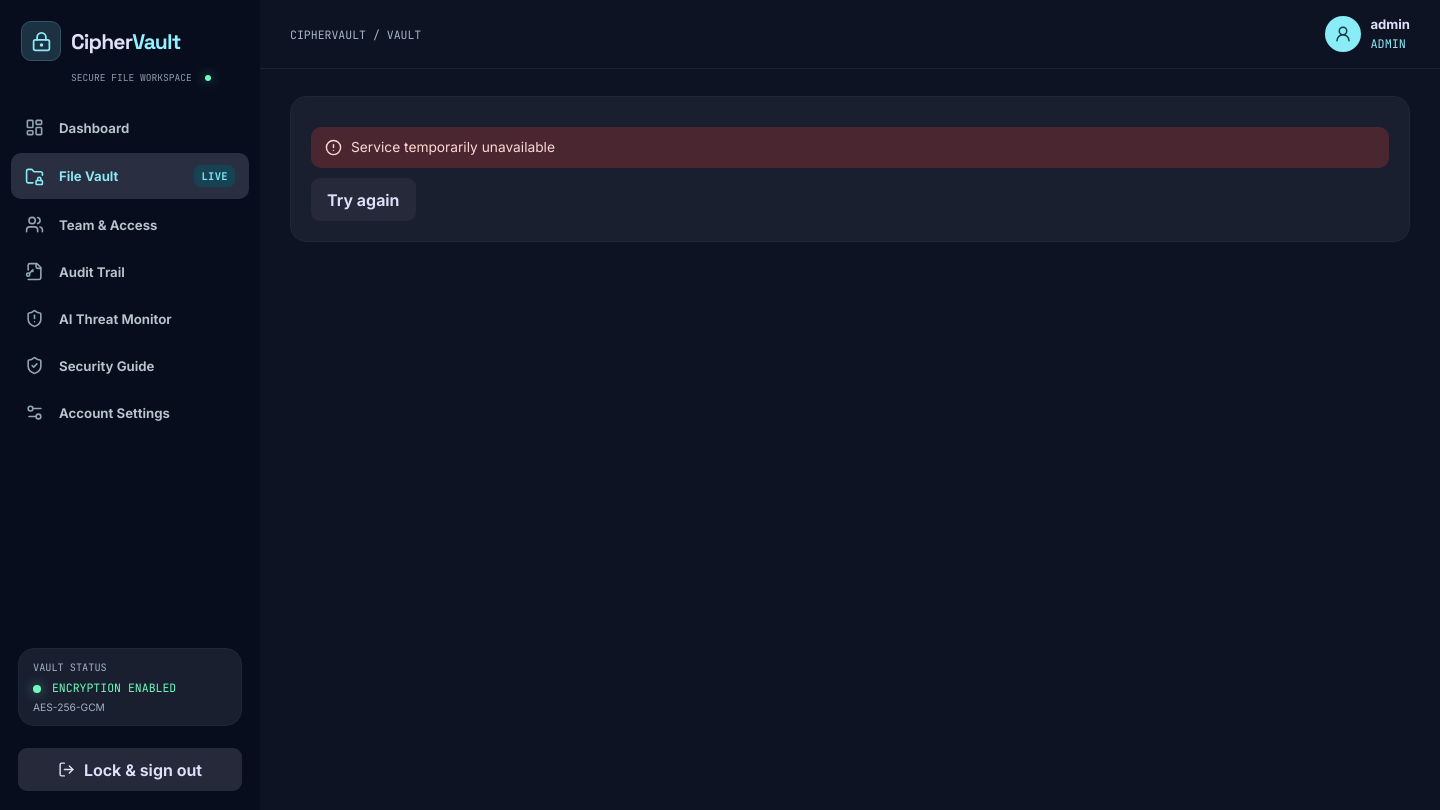
Scenario: failed requests remain recoverable › a successful retry clears the old error and displays the files
Expected: the text "Service temporarily unavailable" is shown, [311,127,1389,168]
Click the button "Try again".
click(363, 200)  # box [311,178,416,221]
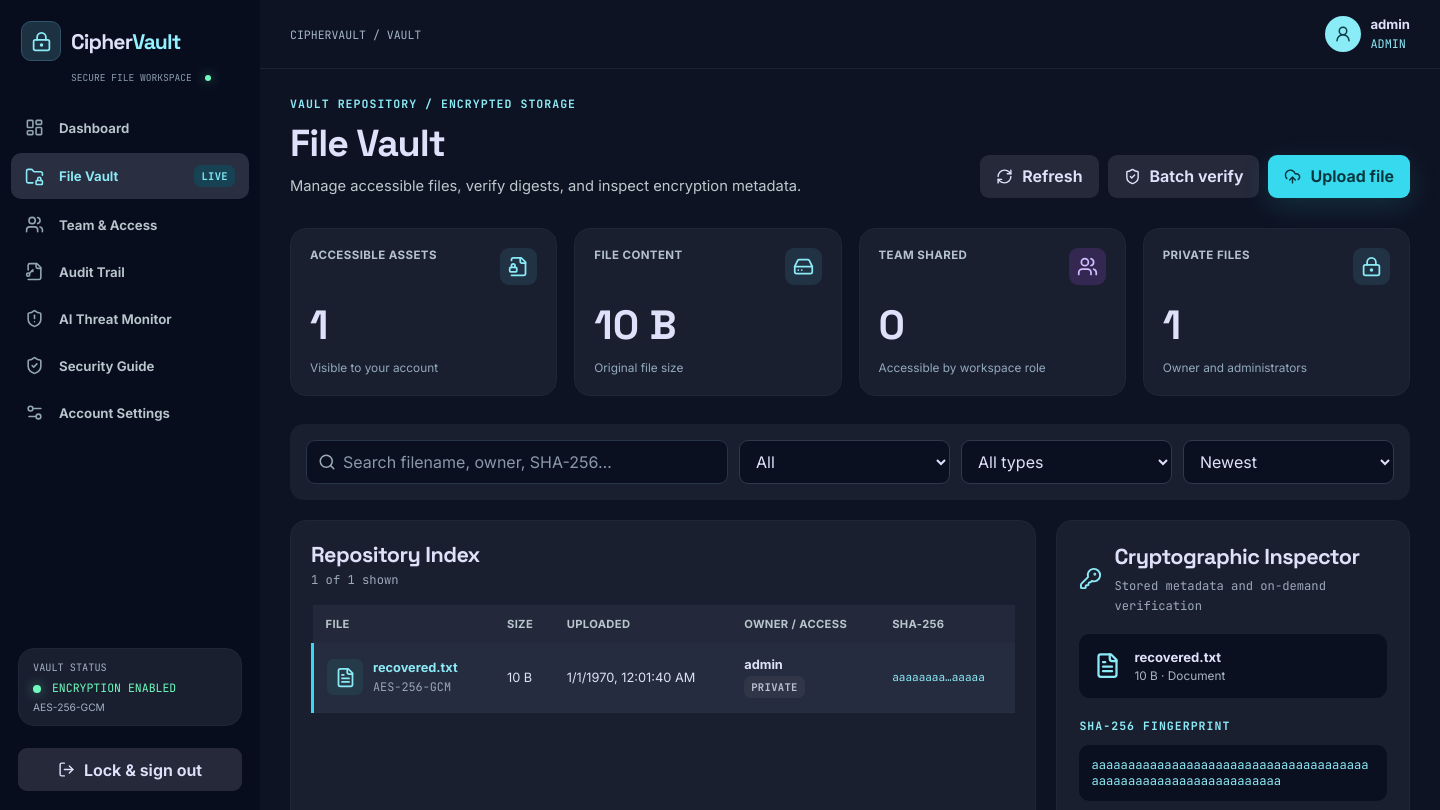
Now the heading "Repository Index" is shown, box [311,540,480,568]
Now the text "Service temporarily unavailable" is gone
Now the text "recovered.txt" in the row of "1/1/1970, 12:01:40 AM" is shown, box [373,660,458,674]
